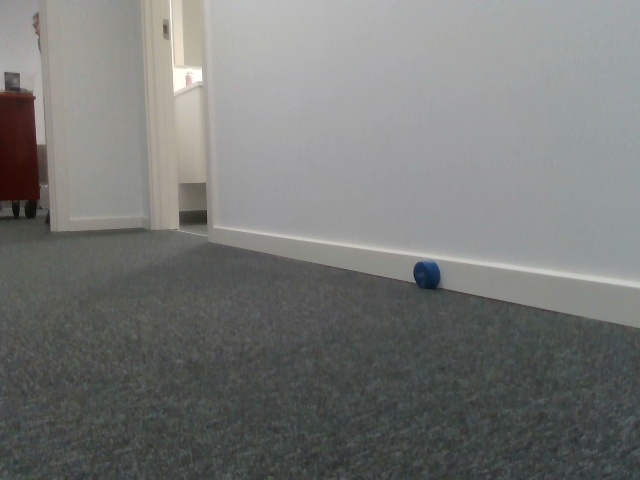alfa: (559, 264, 592, 300)
